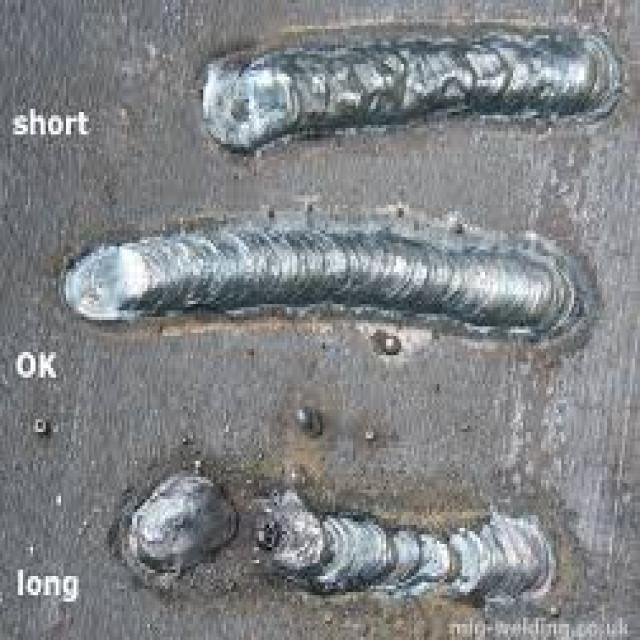Bad Weld: (116, 464, 552, 605)
Good Weld: (56, 221, 576, 336), (196, 16, 610, 150)
